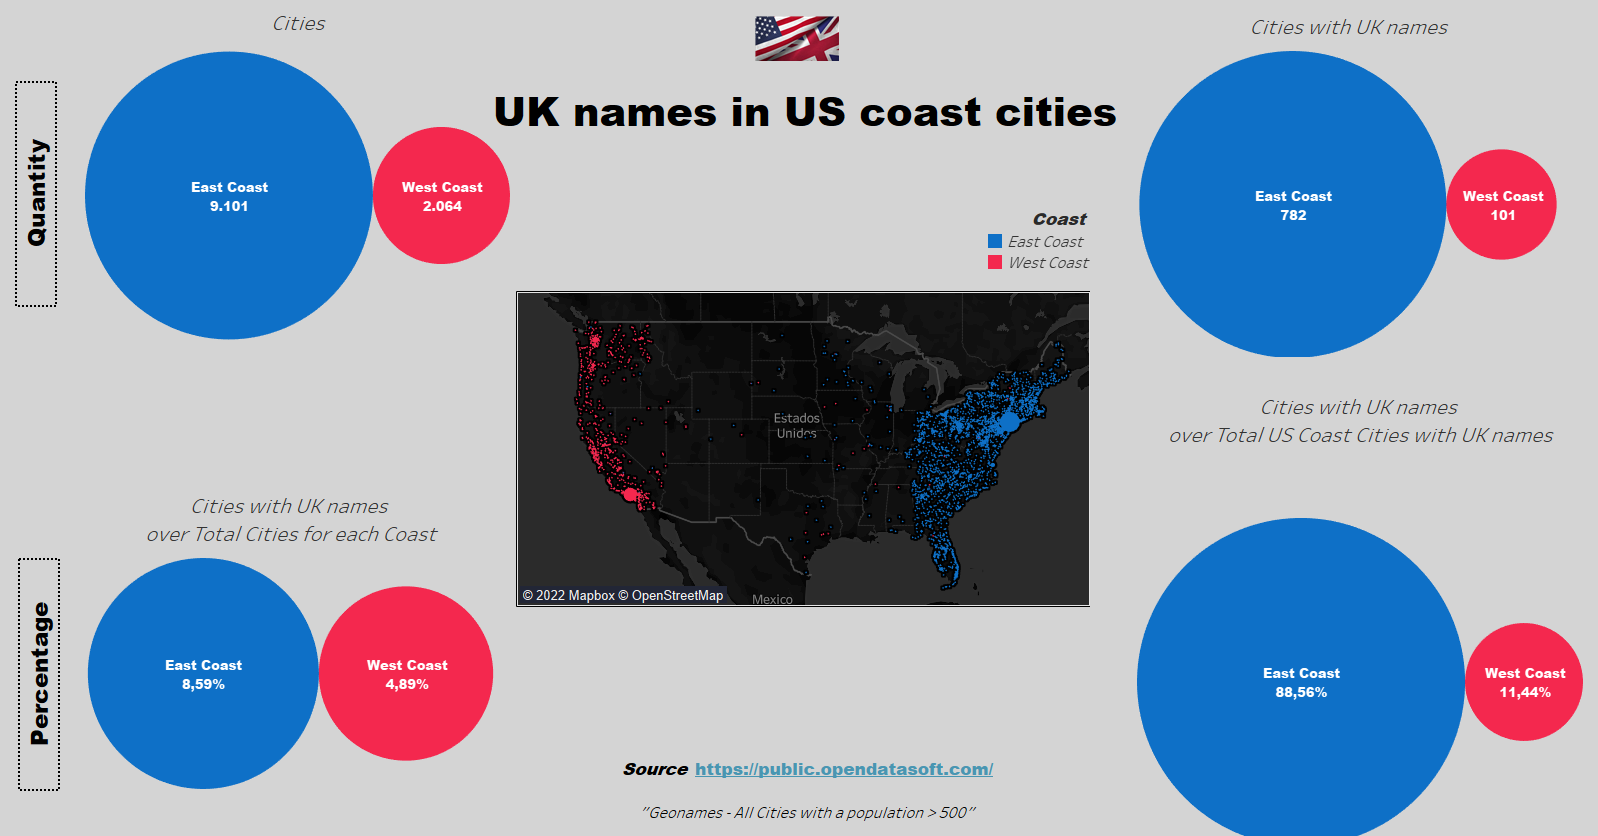

Layout of this report page (visuals, bound fields, positions):
{"tool":"tableau","page":{"name":"UK names in US cities","canvas":[1000,1000],"units":"permille","ordinal":0},"visuals":[{"type":"worksheet","title":"Cities by Coast","mark":"Circle","box":[56.8,15.3,262.4,394.8]},{"type":"worksheet","title":"Cities with UK names by Coast","mark":"Circle","box":[684.2,19.2,305.2,406.7]},{"type":"image","param":"Image/REU-EU-banderas-istock-770.jpg","box":[470.2,28.9,68.2,53]},{"type":"text","box":[302.7,53,397.6,169.7]},{"type":"text","box":[13.6,104.7,25.9,262.3]},{"type":"legend","title":"Cities by Coast","param":"[federated.1kyixab09p13y01fuefnt0j8mw3b].[none:Timezone:nk]","box":[612.3,250.3,92.4,90.2]},{"type":"worksheet","title":"Map","mark":"Pie","box":[322.6,349,354.8,367]},{"type":"worksheet","title":"% of Cities with UK names over Total Cities (by Coast)","mark":"Circle","box":[26.7,576.4,313.9,351.4]},{"type":"text","box":[15.4,659.5,25.9,270.8]},{"type":"text","box":[357.9,883.3,289.7,89]}]}

Visuals, with their boxes on the dashboard's canvas, which has no fixed pixel size, in thousandths of its width and height (x1, y1, x2, y2). These are canvas units, not pixel positions in the 1598x836 screenshot, which may show the page scaled, cropped or inside an application window:
"Cities by Coast" worksheet (Circle marks): box(57, 15, 319, 410)
"Cities with UK names by Coast" worksheet (Circle marks): box(684, 19, 989, 426)
image: box(470, 29, 538, 82)
text: box(303, 53, 700, 223)
text: box(14, 105, 40, 367)
"Cities by Coast" legend: box(612, 250, 705, 340)
"Map" worksheet (Pie marks): box(323, 349, 677, 716)
"% of Cities with UK names over Total Cities (by Coast)" worksheet (Circle marks): box(27, 576, 341, 928)
text: box(15, 660, 41, 930)
text: box(358, 883, 648, 972)
